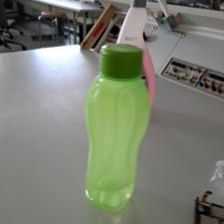bottle: (79, 44, 152, 205)
